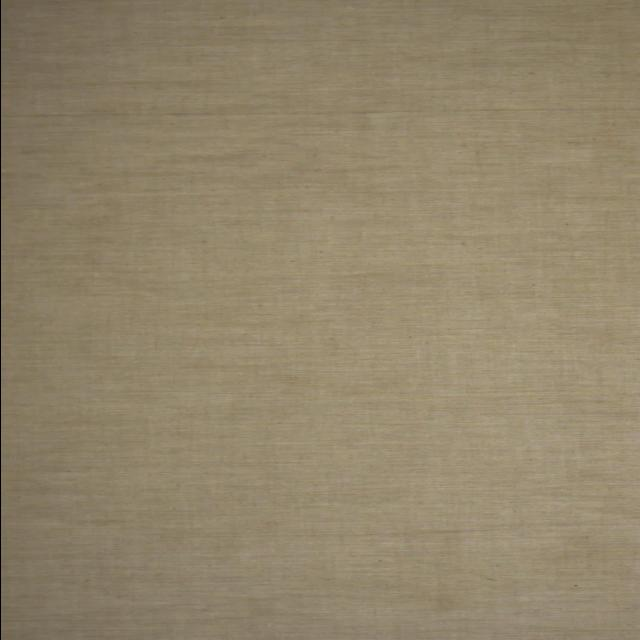dirty: (435, 596, 453, 612)
